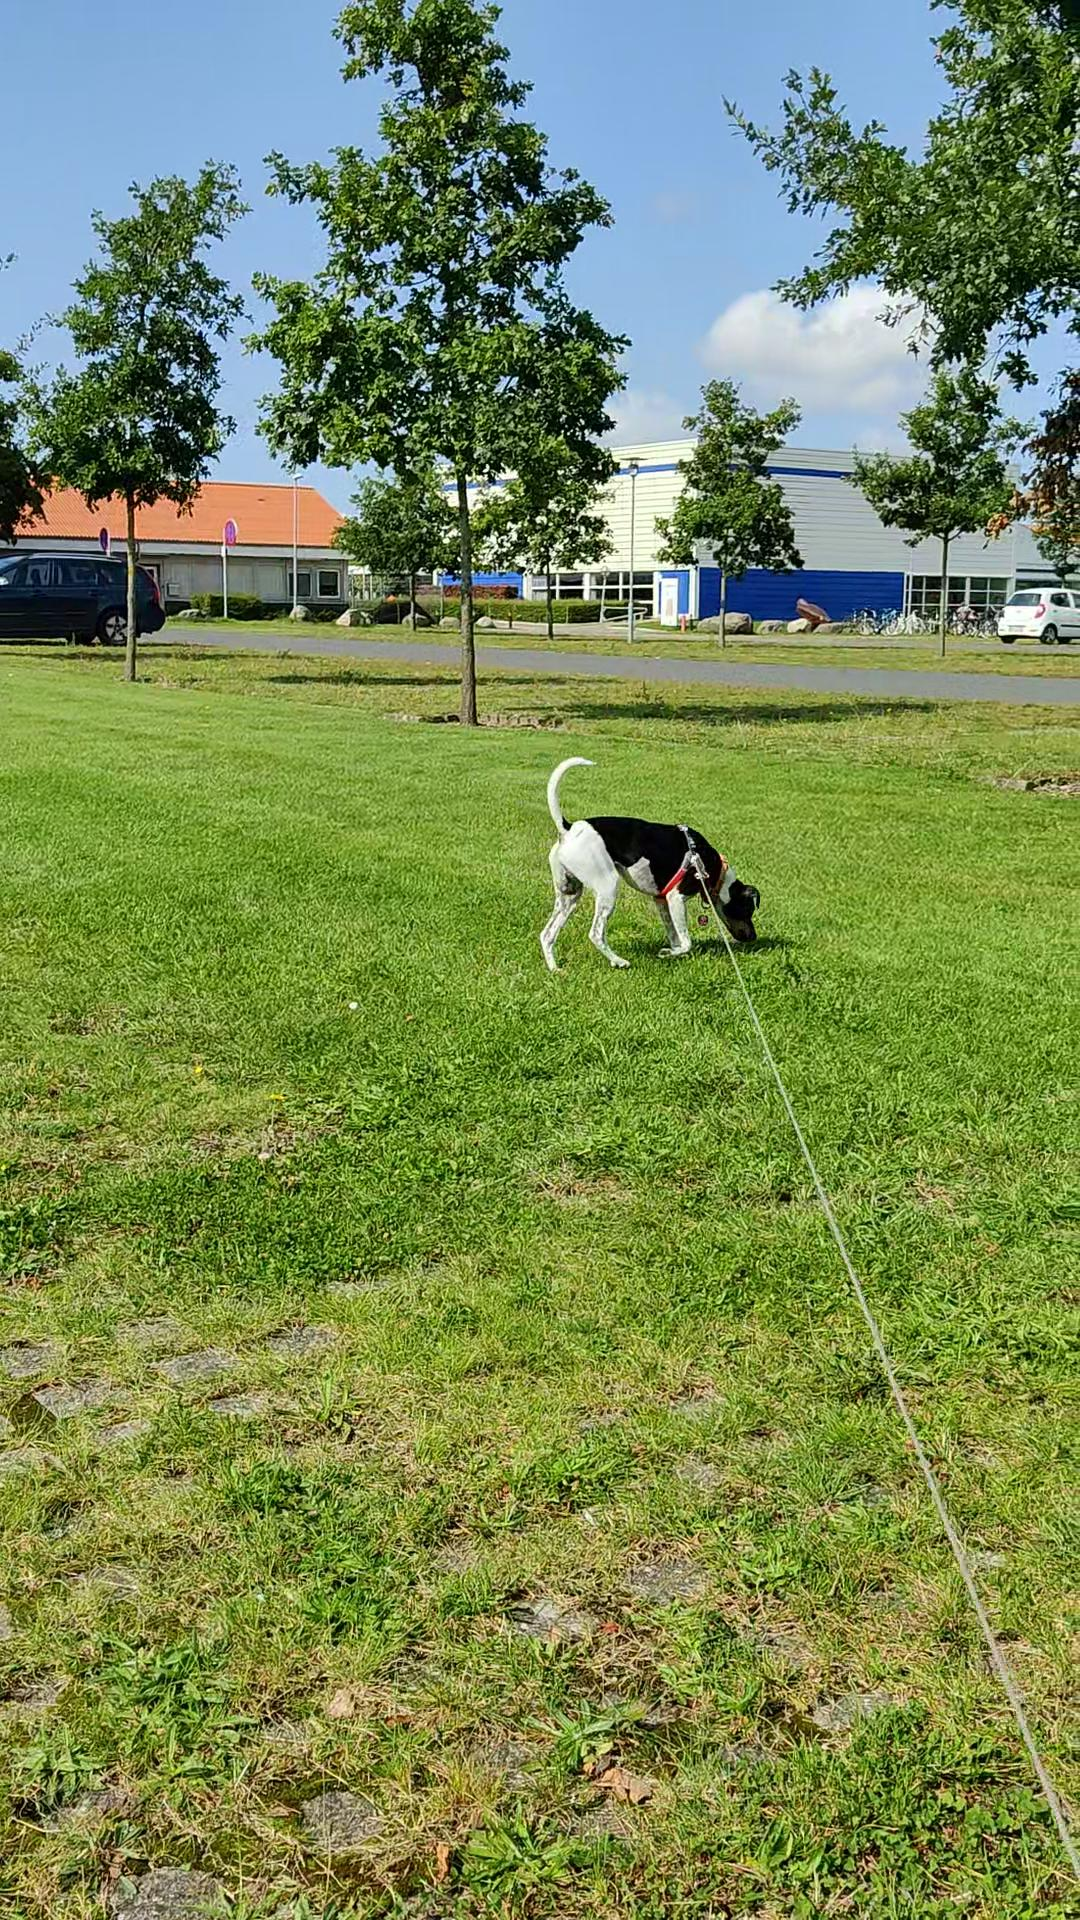Dog: (535, 754, 764, 976)
